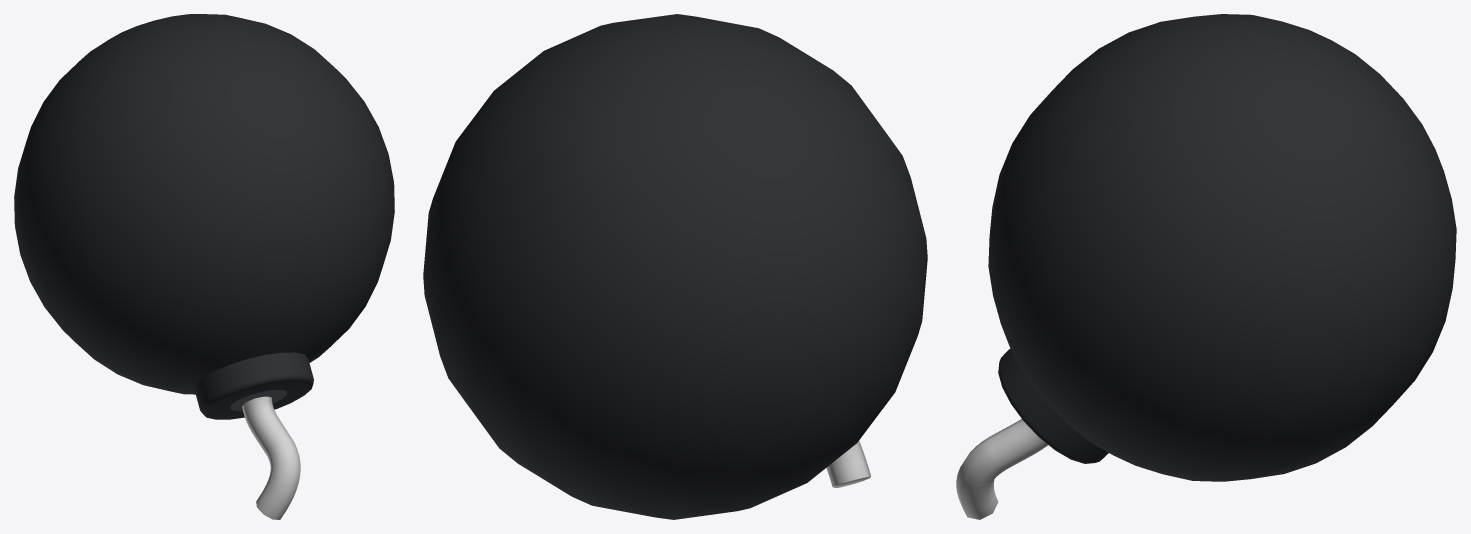
File: Bomb.fbx
The picture shows the model from 3 angles, left to right: view 1: azimuth 30°, elevation 25°; view 2: azimuth 150°, elevation 25°; view 3: azimuth 270°, elevation 25°; orthographic projection. The views are drawn at different scales.
Parts seen in each view (by area): view 1: bomb; view 2: bomb; view 3: bomb.
Part boxes in pixels (bbox=[...]): bomb: bbox=[14, 14, 394, 519]; bomb: bbox=[423, 14, 927, 519]; bomb: bbox=[956, 14, 1456, 519].
Size of the model in its own units: 61.42 by 72.85 by 66.16.
